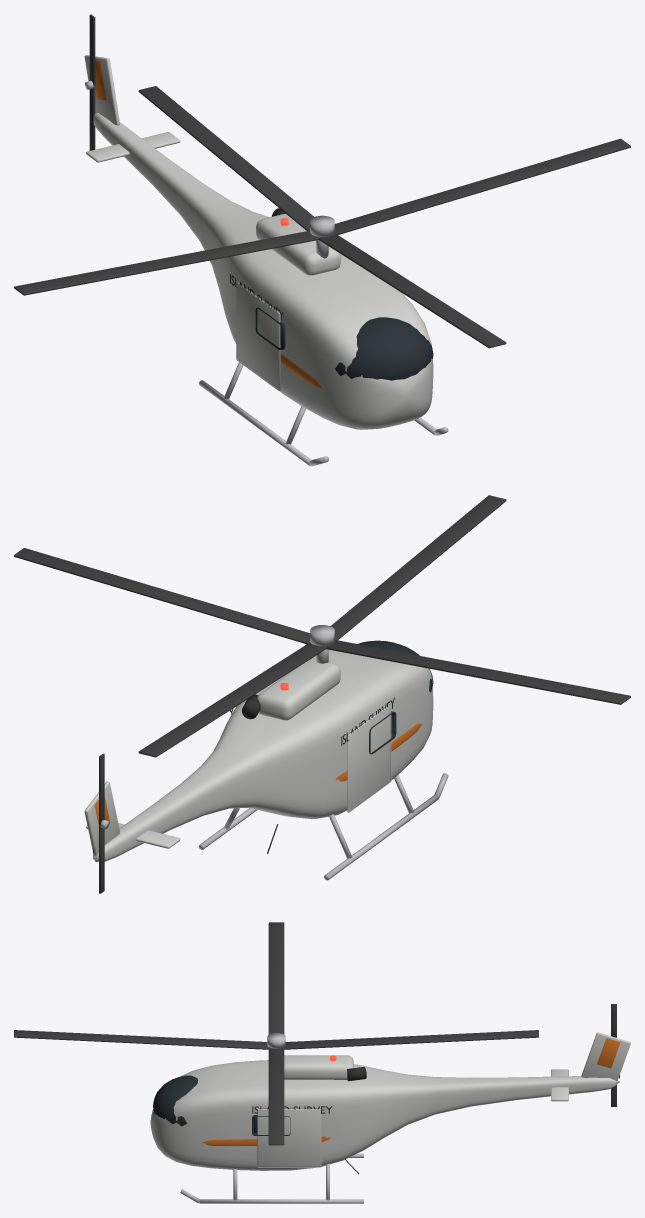
The model's file is heli.glb.
3 views of the same model, one above another, from view 1: azimuth 30°, elevation 25°; view 2: azimuth 150°, elevation 25°; view 3: azimuth 270°, elevation 25° (orthographic). The views are drawn at different scales.
Visible parts, largest first — view 1: heli_body, heli_rotor, heli_tail; view 2: heli_body, heli_rotor, heli_tail; view 3: heli_body, heli_rotor.
Boxes of the visible parts, bbox=[...] form: heli_body: bbox=[84, 55, 448, 466]; heli_rotor: bbox=[14, 86, 630, 348]; heli_tail: bbox=[85, 14, 95, 150]; heli_body: bbox=[84, 640, 448, 880]; heli_rotor: bbox=[14, 495, 630, 757]; heli_tail: bbox=[99, 753, 109, 893]; heli_body: bbox=[150, 1032, 630, 1203]; heli_rotor: bbox=[14, 922, 538, 1145].
Bounding box in the file's own units: 10.19 × 3.75 × 11.98.
